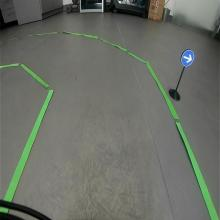right: (181, 48, 195, 67)
